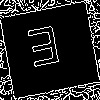E: (25, 25, 64, 77)
